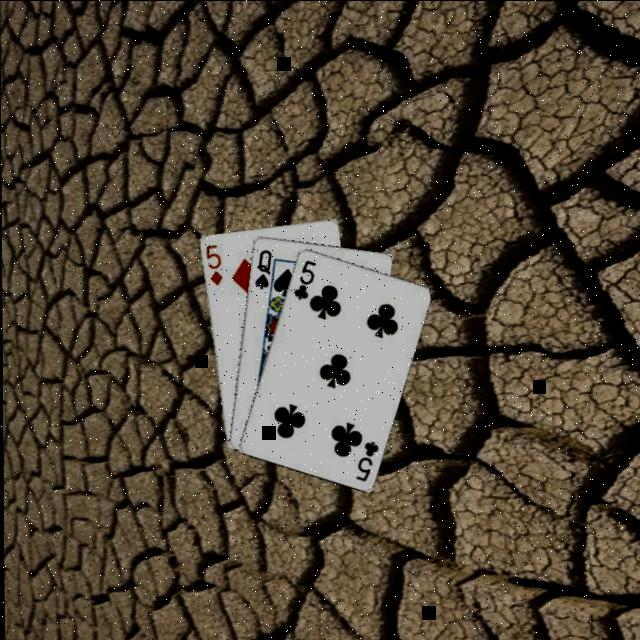5C: (288, 257, 316, 303), (351, 438, 379, 484)
5D: (201, 242, 224, 288)
QS: (250, 246, 272, 292)
